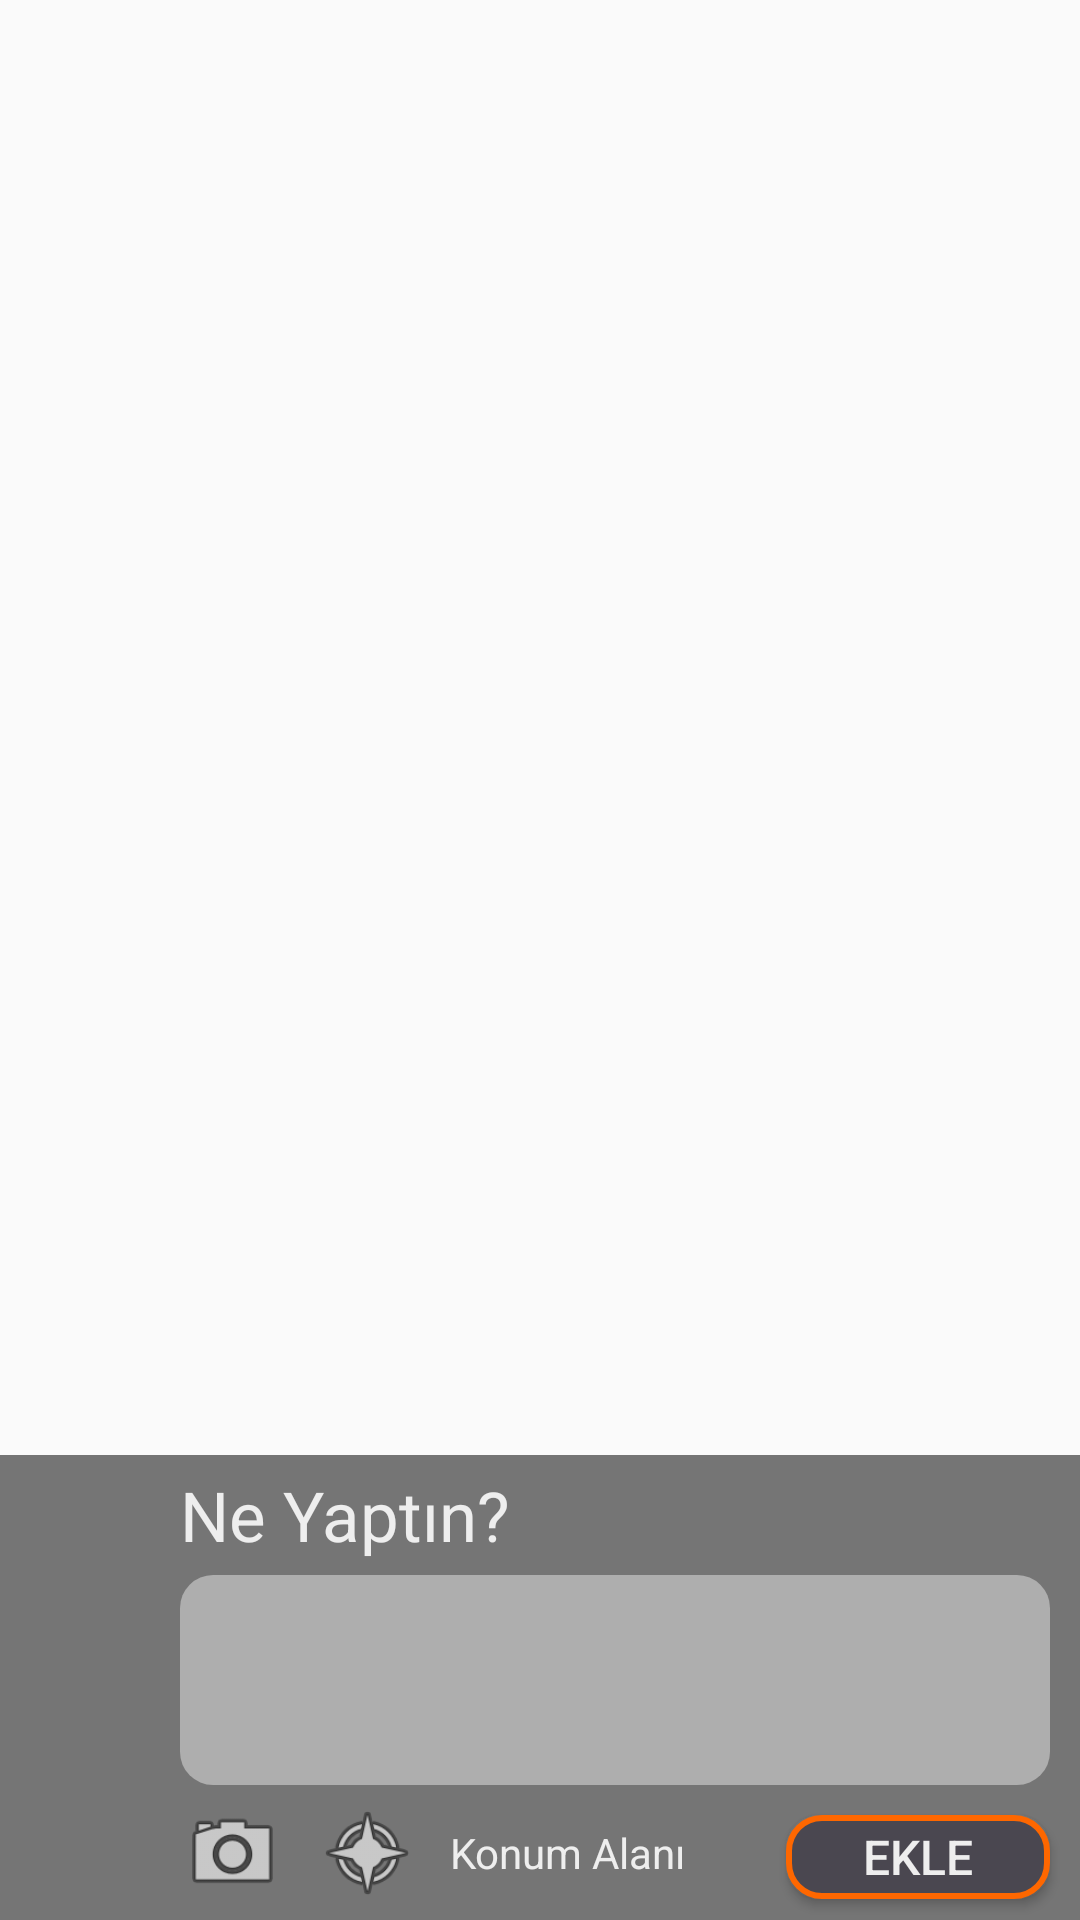

Icon bounding boxes for this 1080×1920 phone screenshot, format (x1, y1, x2, y2):
camera: (192, 1819, 273, 1883)
compass: (326, 1812, 408, 1894)
